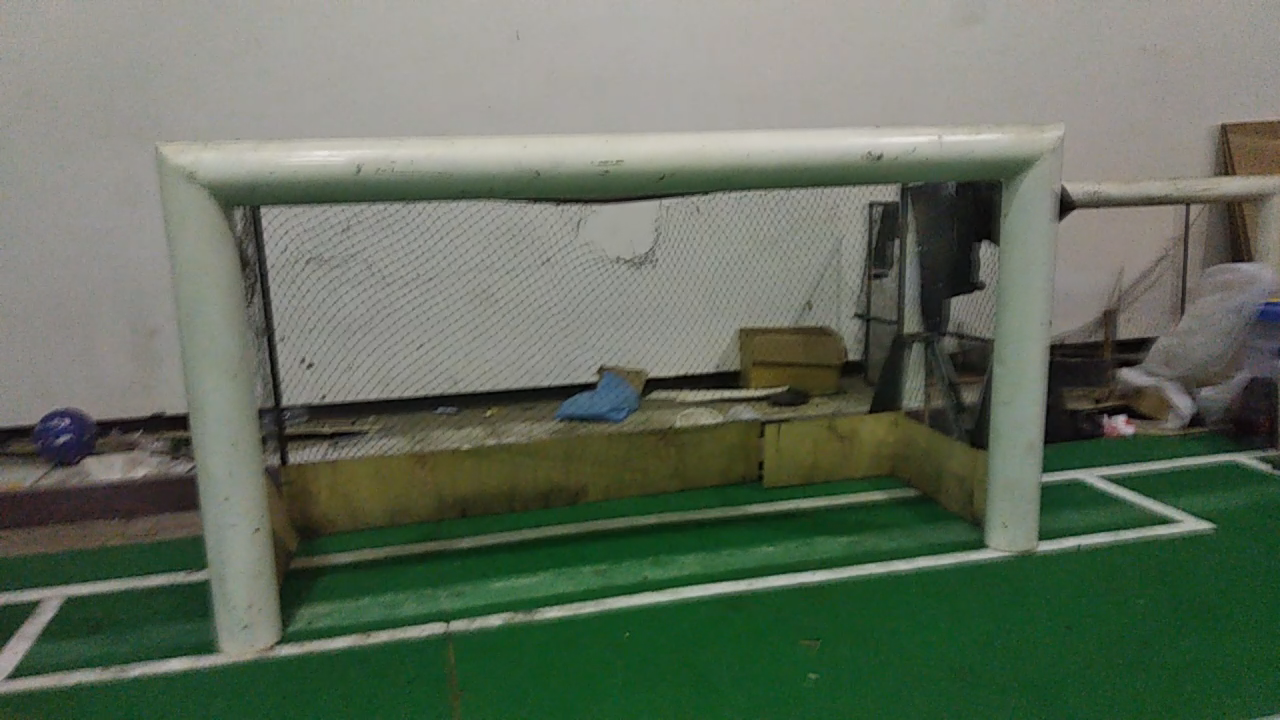gawang: (137, 110, 1084, 670)
